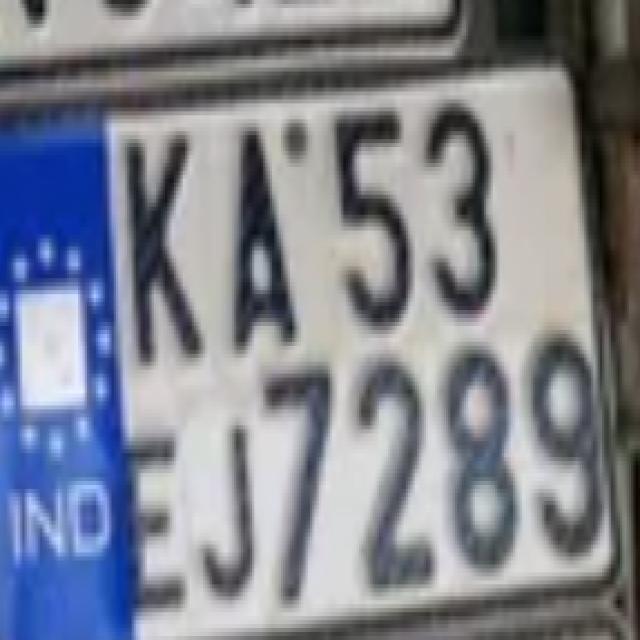3: (418, 76, 512, 336)
5: (324, 94, 426, 357)
7: (260, 348, 344, 613)
8: (437, 334, 536, 602)
9: (518, 319, 612, 568)
A: (225, 81, 309, 378)
E: (118, 411, 193, 623)
J: (194, 415, 264, 624)
K: (121, 109, 212, 386)
